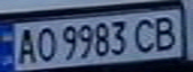3: (109, 18, 133, 56)
8: (90, 19, 112, 57)
9: (57, 22, 78, 61), (75, 21, 96, 60)
A: (12, 25, 39, 65)
B: (148, 14, 181, 52)
C: (130, 16, 163, 54)
O: (33, 25, 57, 63)
